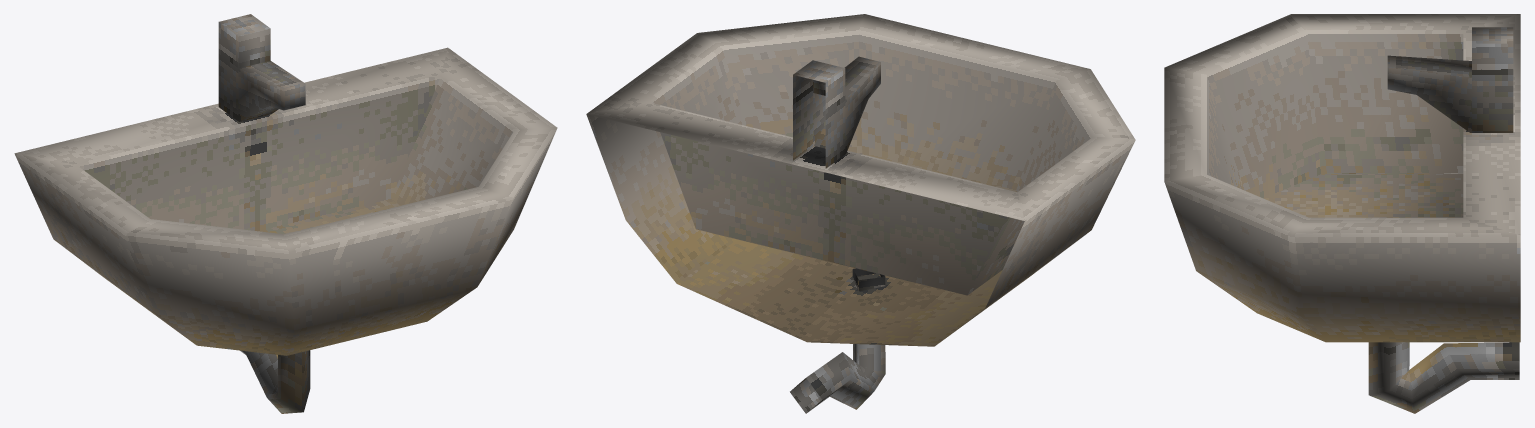
File: sink.glb
3 renders of one model, left to right at view 1: azimuth 30°, elevation 25°; view 2: azimuth 150°, elevation 25°; view 3: azimuth 270°, elevation 25°, orthographic. The views are drawn at different scales.
Parts seen in each view (by area): view 1: Sink; view 2: Sink; view 3: Sink.
Boxes of the visible parts, x1,y1,x2,y2 form: Sink: (14, 14, 557, 413); Sink: (586, 14, 1135, 413); Sink: (1164, 14, 1520, 413).
Size of the model in its own units: 0.55 by 0.4383 by 0.3741.
Materials: 1 (1 with a texture image).
